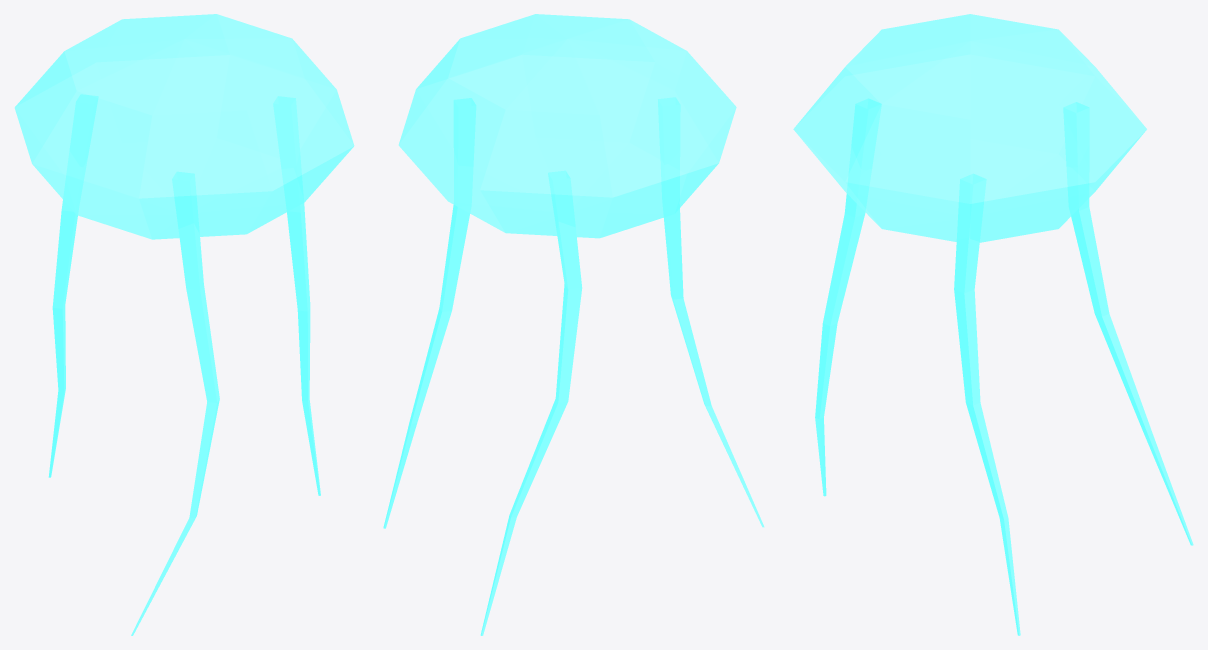
The model's file is light_creature.glb.
3 renders of one model, left to right at view 1: azimuth 30°, elevation 25°; view 2: azimuth 150°, elevation 25°; view 3: azimuth 270°, elevation 25°, orthographic.
Visible parts, largest first — view 1: ENV_LIGHT_CREATURE_01_LITE; view 2: ENV_LIGHT_CREATURE_01_LITE; view 3: ENV_LIGHT_CREATURE_01_LITE.
Part boxes in pixels (left/top/right/bottom): ENV_LIGHT_CREATURE_01_LITE: left=14, top=14, right=354, bottom=635; ENV_LIGHT_CREATURE_01_LITE: left=383, top=14, right=764, bottom=635; ENV_LIGHT_CREATURE_01_LITE: left=793, top=14, right=1193, bottom=635.
Size of the model in its own units: 12.33 by 19.3 by 13.57.
